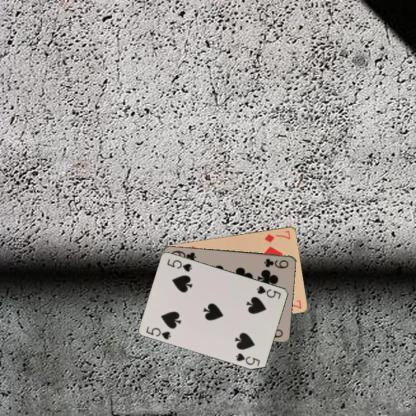5s: (254, 283, 283, 300), (144, 324, 172, 341)
7d: (262, 228, 292, 243)
9c: (262, 256, 290, 269)
